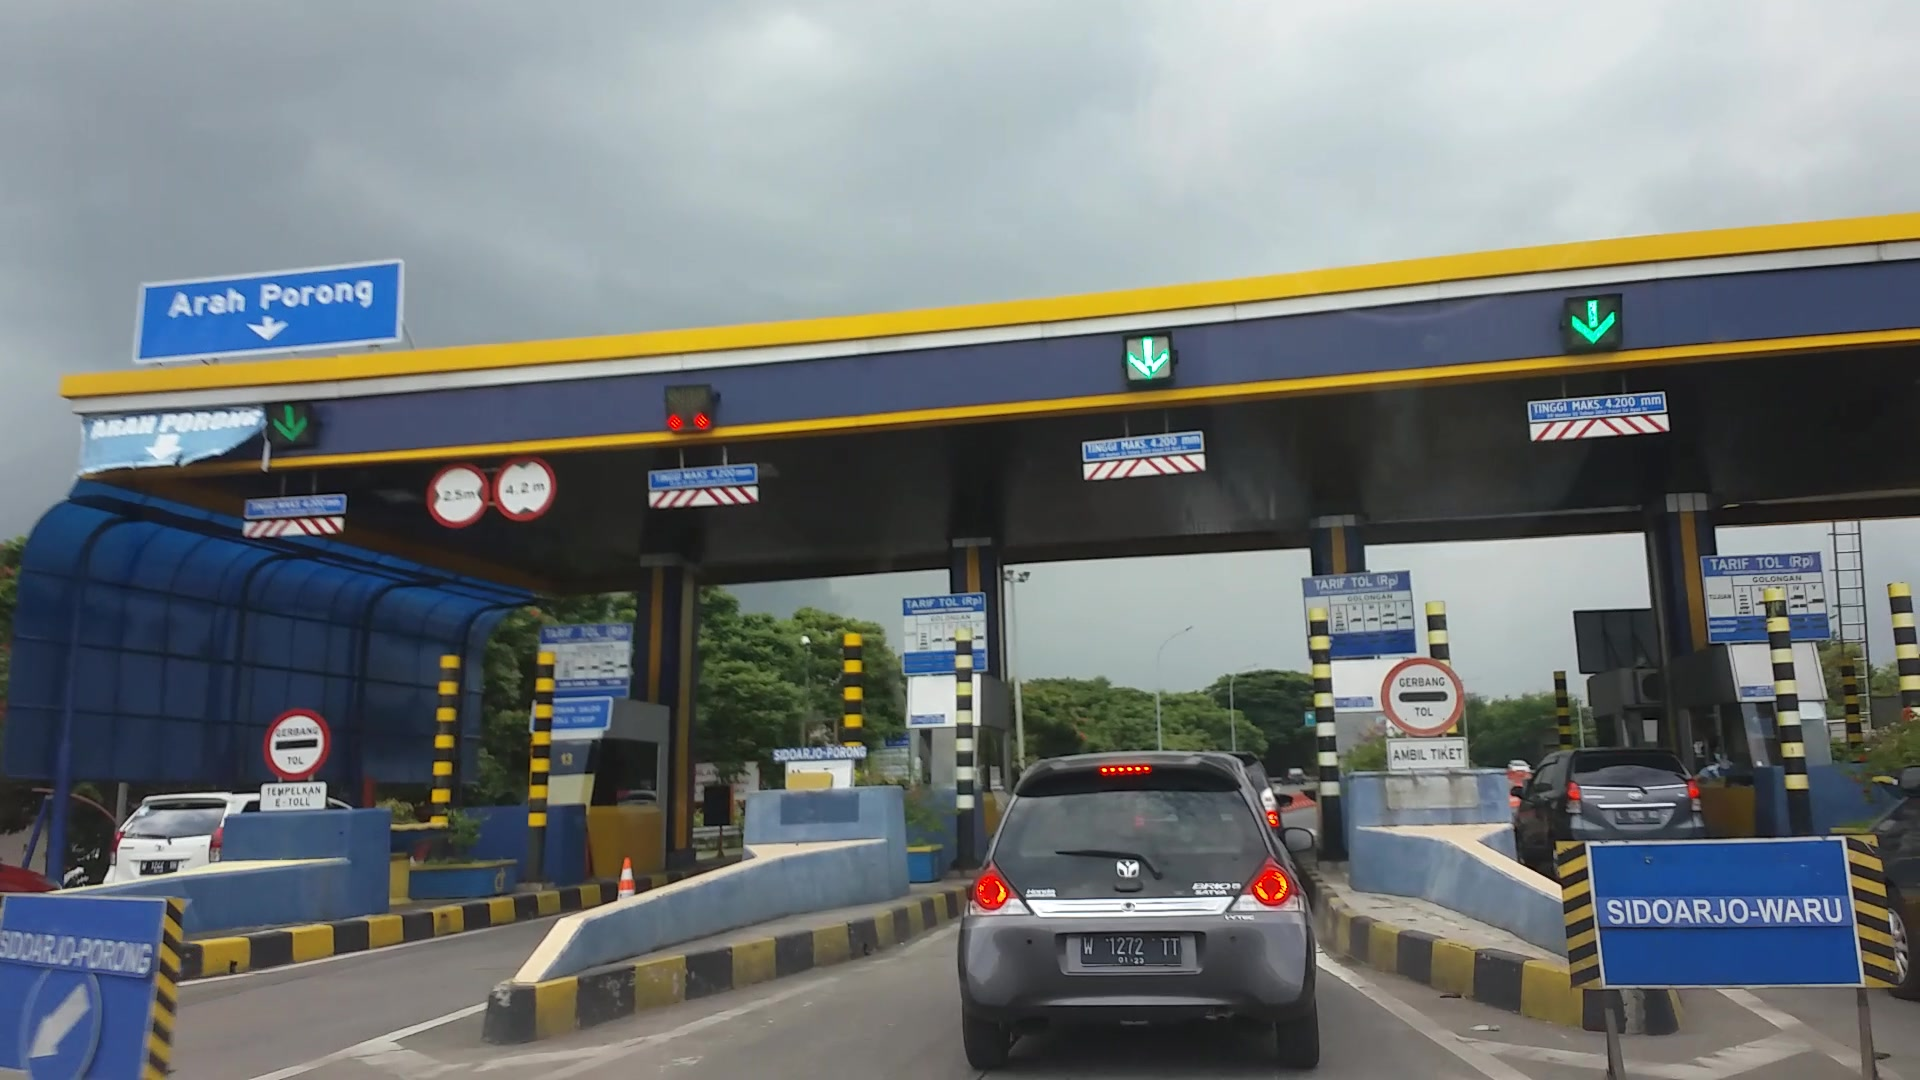plate_positive: (1080, 934, 1182, 967)
